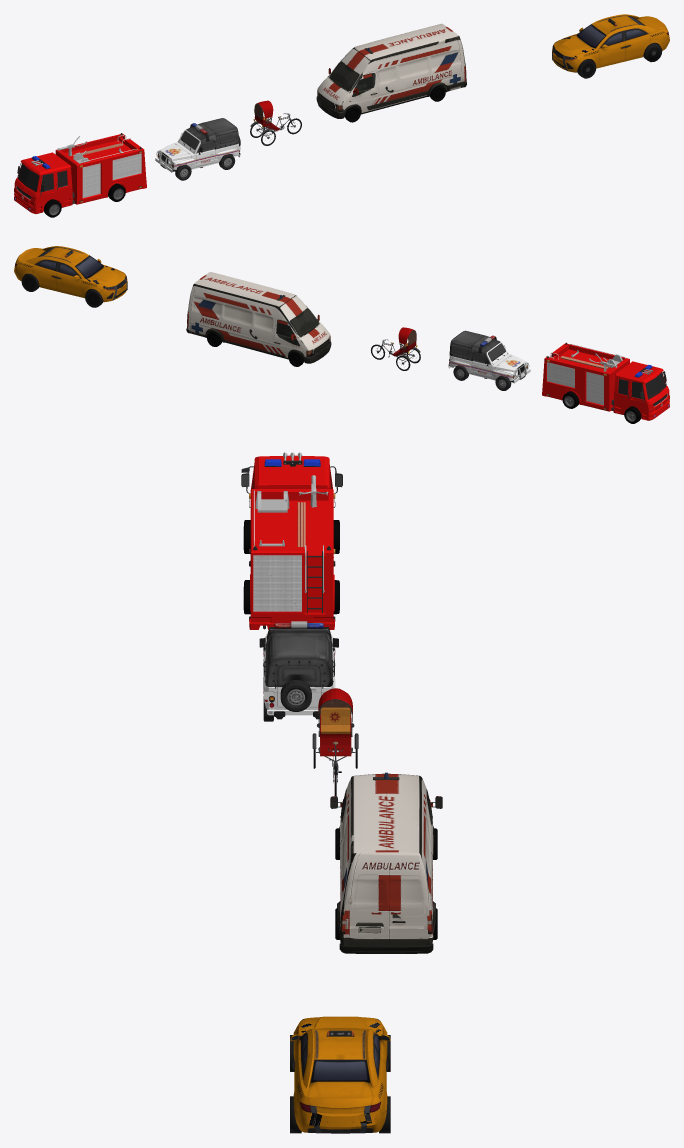
The model's file is ALL VEHICLE.fbx.
The picture shows the model from 3 angles, top to bottom: view 1: azimuth 30°, elevation 25°; view 2: azimuth 150°, elevation 25°; view 3: azimuth 270°, elevation 25°; orthographic projection. The views are drawn at different scales.
Parts seen in each view (by area): view 1: AMBULANCE, FIRE TRUCK, TAXI, Police Jeep, CS_Auto rikshaw; view 2: AMBULANCE, FIRE TRUCK, TAXI, Police Jeep, CS_Auto rikshaw; view 3: AMBULANCE, FIRE TRUCK, TAXI, Police Jeep, CS_Auto rikshaw.
Boxes of the visible parts, bbox=[...] form: AMBULANCE: bbox=[316, 23, 466, 118]; FIRE TRUCK: bbox=[14, 133, 146, 213]; TAXI: bbox=[552, 14, 669, 72]; Police Jeep: bbox=[155, 118, 240, 172]; CS_Auto rikshaw: bbox=[250, 100, 295, 137]; AMBULANCE: bbox=[186, 272, 331, 363]; FIRE TRUCK: bbox=[542, 342, 669, 420]; TAXI: bbox=[14, 246, 127, 302]; Police Jeep: bbox=[448, 330, 530, 383]; CS_Auto rikshaw: bbox=[377, 327, 420, 362]; AMBULANCE: bbox=[330, 772, 442, 953]; FIRE TRUCK: bbox=[241, 452, 342, 629]; TAXI: bbox=[290, 1016, 390, 1133]; Police Jeep: bbox=[259, 621, 338, 719]; CS_Auto rikshaw: bbox=[312, 688, 358, 782].
Bounding box in the file's own units: 3510 × 305 × 486.
